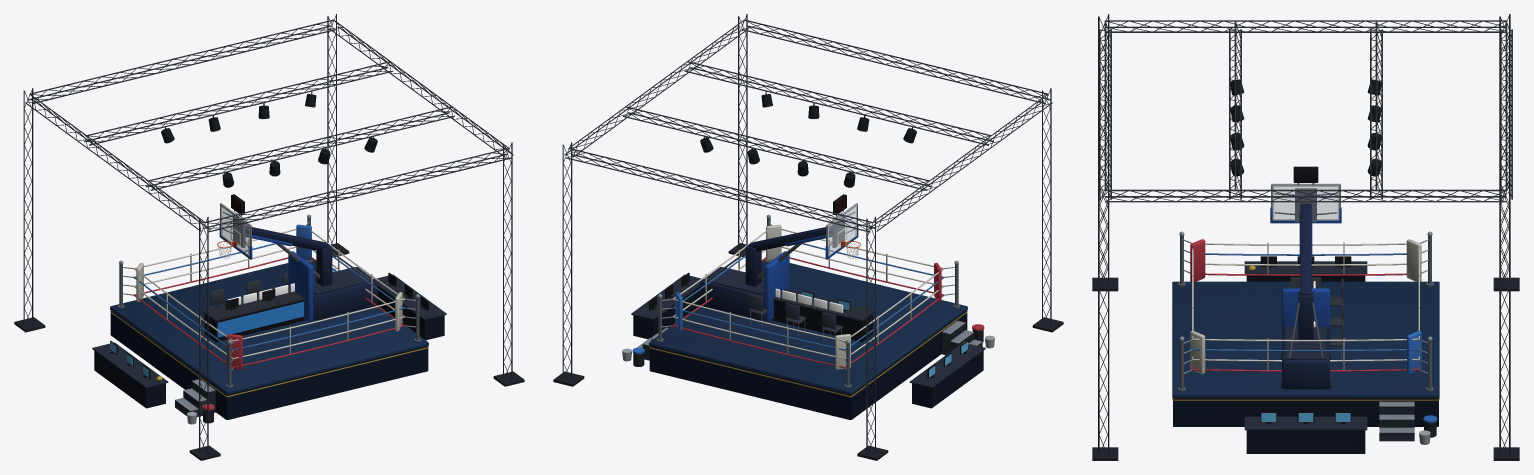
Rendered from arena.glb.
3 renders of one model, left to right at view 1: azimuth 30°, elevation 25°; view 2: azimuth 150°, elevation 25°; view 3: azimuth 270°, elevation 25°, orthographic. The views are drawn at different scales.
Parts seen in each view (by area): view 1: ring, ring_rig, hoop, scorer_table; view 2: ring, ring_rig, hoop, scorer_table, bench; view 3: ring, ring_rig, hoop, scorer_table.
Part boxes in pixels (bbox=[...]): ring: bbox=[92, 214, 446, 424]; ring_rig: bbox=[14, 14, 524, 460]; hoop: bbox=[217, 194, 377, 321]; scorer_table: bbox=[202, 273, 305, 342]; ring: bbox=[622, 214, 994, 419]; ring_rig: bbox=[553, 14, 1063, 460]; hoop: bbox=[700, 194, 860, 321]; scorer_table: bbox=[749, 289, 874, 344]; bench: bbox=[775, 288, 843, 312]; ring: bbox=[1172, 231, 1439, 453]; ring_rig: bbox=[1092, 14, 1519, 460]; hoop: bbox=[1270, 166, 1341, 389]; scorer_table: bbox=[1290, 277, 1343, 359].
Size of the model in its own units: 11.5 by 8.01 by 11.5.
